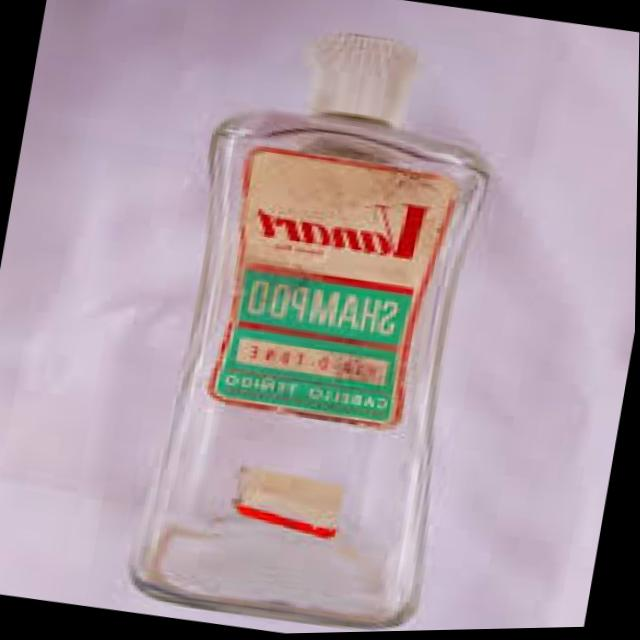Botella: (120, 0, 513, 637)
